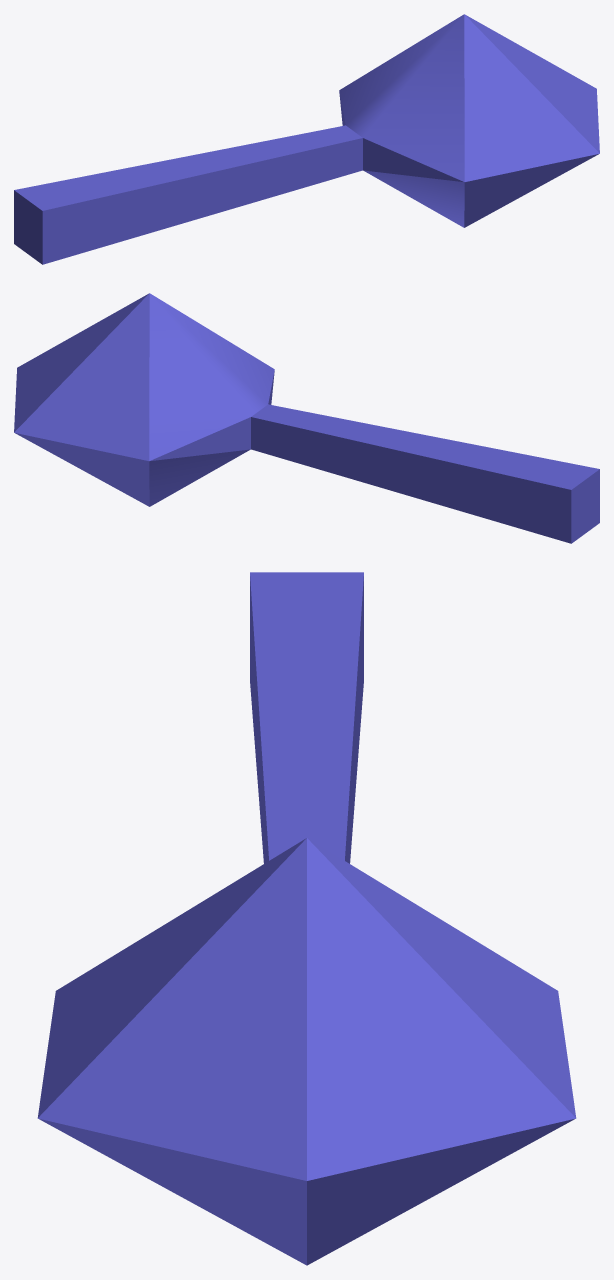
File: candy03.fbx
3 renders of one model, top to bottom at view 1: azimuth 30°, elevation 25°; view 2: azimuth 150°, elevation 25°; view 3: azimuth 270°, elevation 25°, orthographic. The views are drawn at different scales.
Parts seen in each view (by area): view 1: candyC; view 2: candyC; view 3: candyC.
Boxes of the visible parts, box(x1,y1,x2,y2) form: candyC: box(14, 14, 599, 264); candyC: box(14, 293, 599, 543); candyC: box(37, 572, 576, 1265).
Size of the model in its own units: 0.8851 by 0.3182 by 0.3631.
